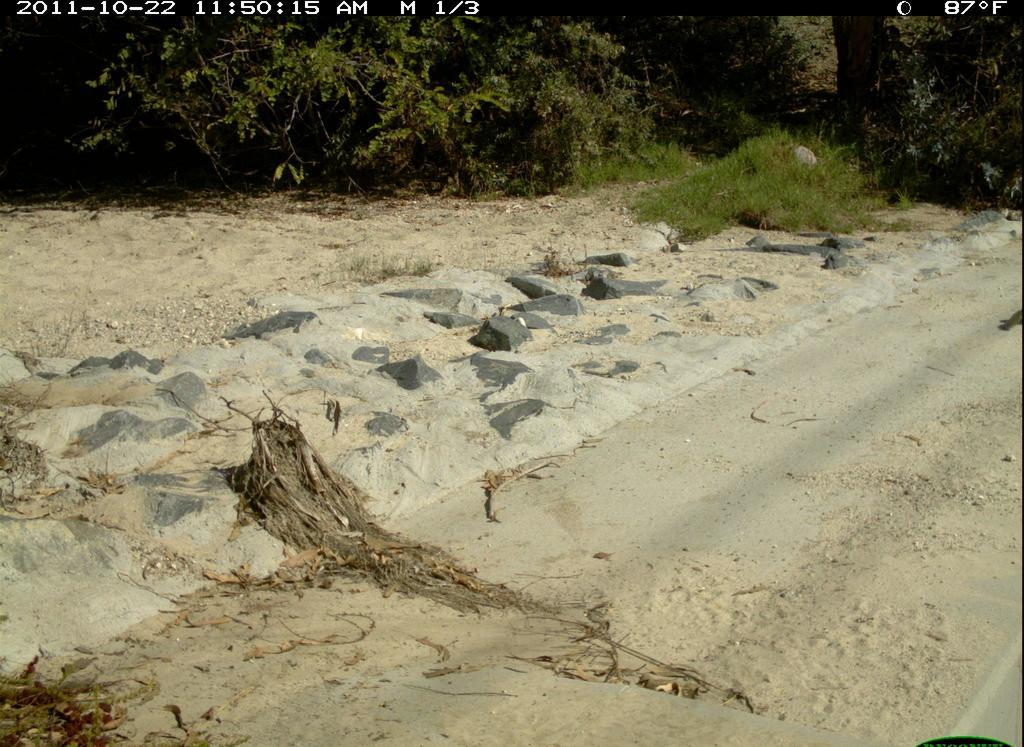squirrel: (1000, 303, 1023, 338)
